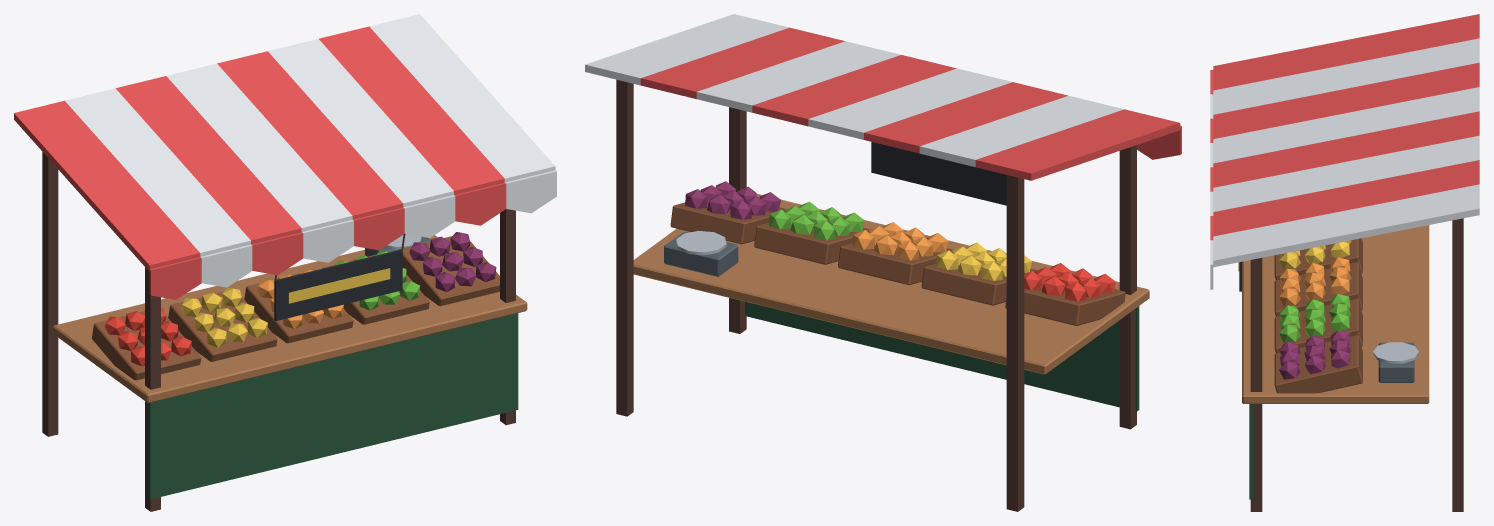
The model's file is market_stall.glb.
3 views of the same model, side by side, from view 1: azimuth 30°, elevation 25°; view 2: azimuth 150°, elevation 25°; view 3: azimuth 270°, elevation 25° (orthographic). The views are drawn at different scales.
Parts seen in each view (by area): view 1: market_stall; view 2: market_stall; view 3: market_stall.
Boxes of the visible parts, x1=… form: market_stall: x1=14, y1=14, x2=556, y2=511; market_stall: x1=585, y1=14, x2=1181, y2=511; market_stall: x1=1210, y1=14, x2=1479, y2=511.
Size of the model in its own units: 3.2 by 2.4 by 1.87.
